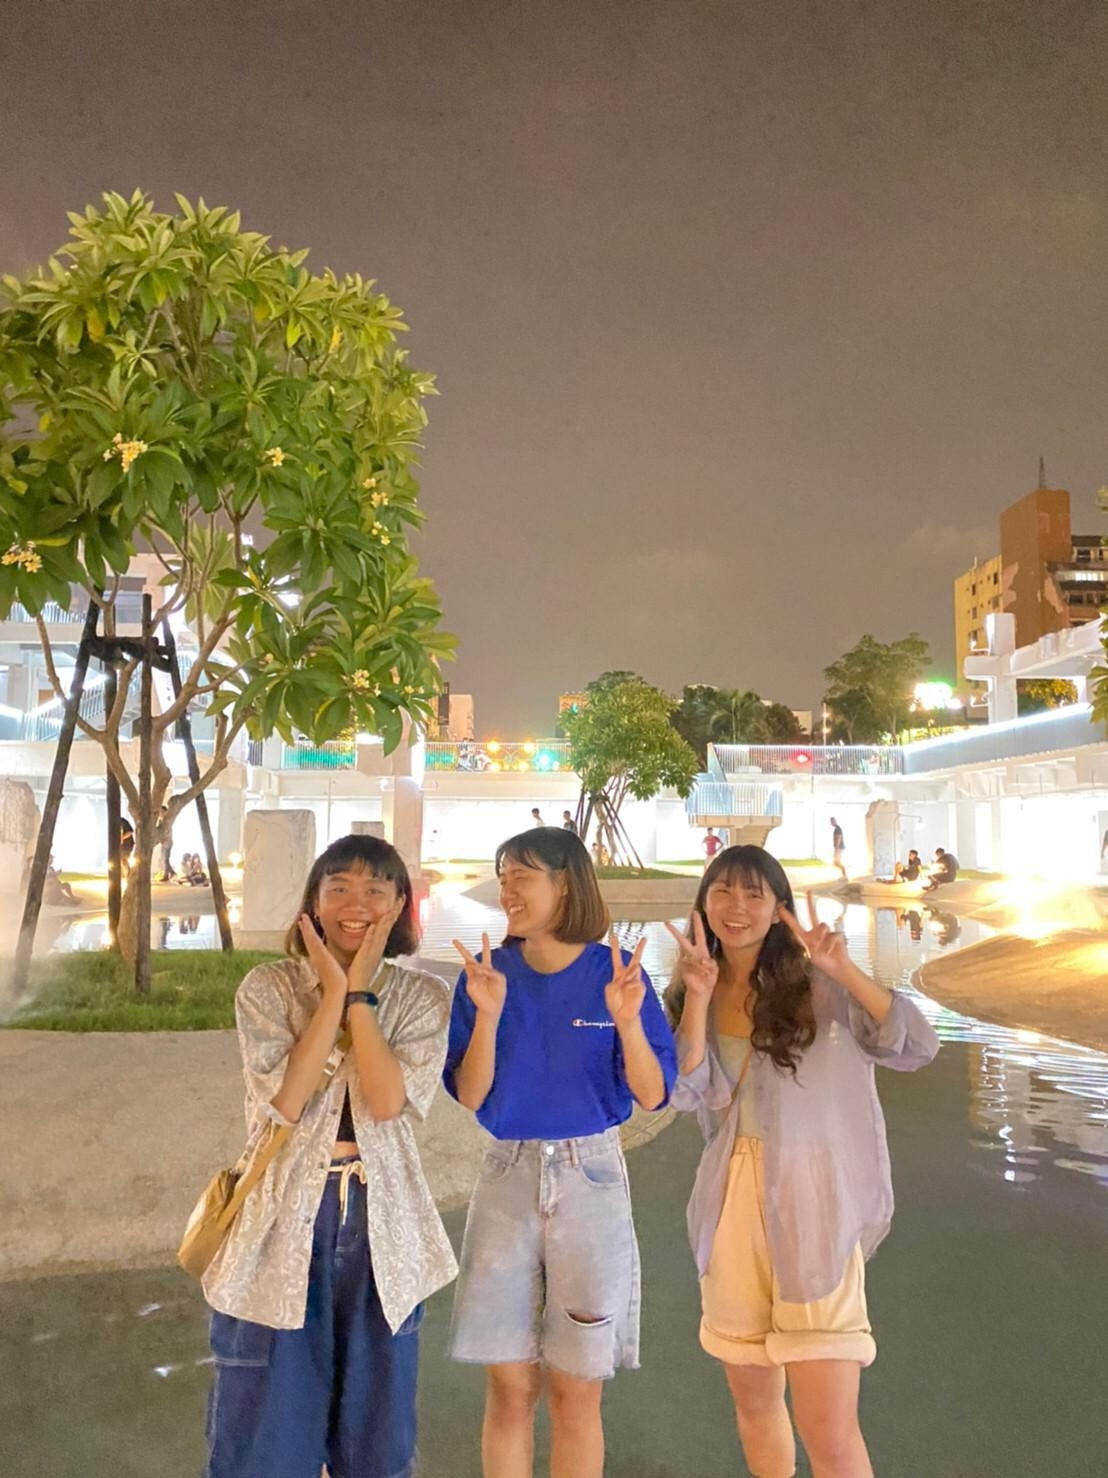people: (676, 850, 886, 1478), (255, 838, 412, 1478), (474, 826, 619, 1478), (897, 847, 933, 895), (819, 812, 843, 857), (933, 843, 957, 881), (705, 823, 719, 859), (183, 850, 197, 881)
